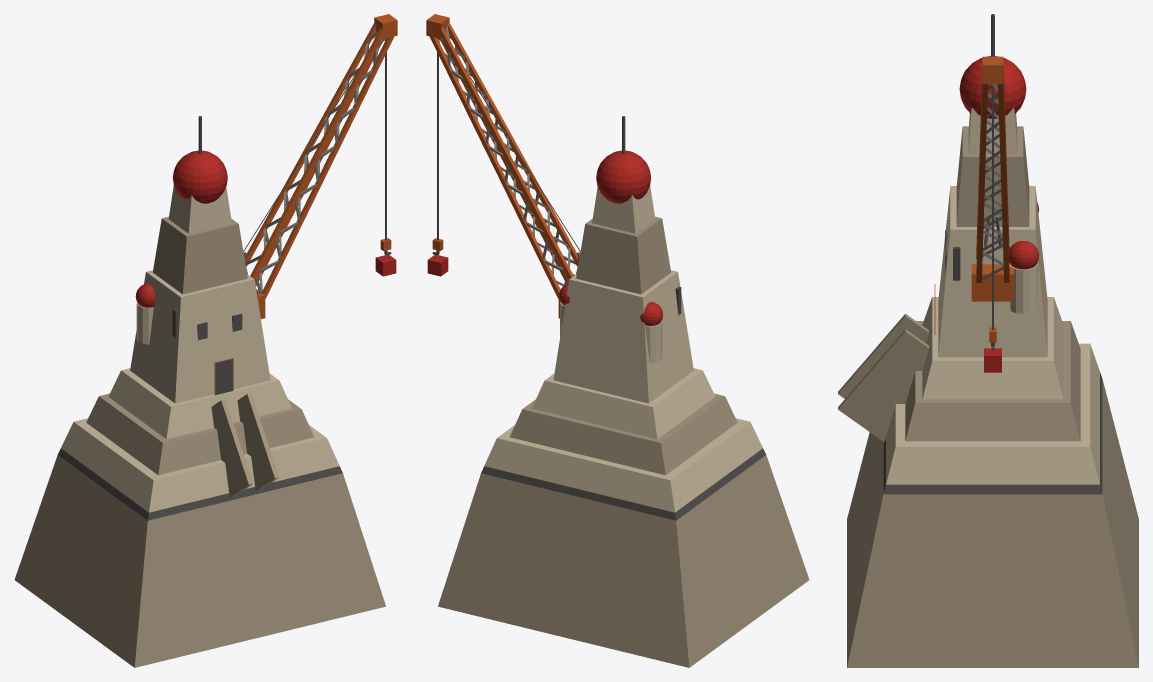
The model's file is crane_tower_script.glb.
3 renders of one model, left to right at view 1: azimuth 30°, elevation 25°; view 2: azimuth 150°, elevation 25°; view 3: azimuth 270°, elevation 25°, orthographic. The views are drawn at different scales.
Parts seen in each view (by area): view 1: Cube, Cube.007, Cube.002, Cube.003, Cube.004, Cube.014, Cube.001, Sphere, Cube.005, Cube.006, Cube.021, Cube.019 (+5 smaller); view 2: Cube, Cube.007, Cube.002, Cube.003, Cube.004, Cube.014, Cube.001, Sphere, Cube.022, Cube.020, Cube.015, Cube.021 (+2 smaller); view 3: Cube, Cube.002, Cube.007, Cube.003, Cube.004, Cube.006, Cube.014, Cube.001, Sphere, Cube.005, Cube.016, Cube.015 (+6 smaller).
Part boxes in pixels (x1=…): Cube: x1=14, y1=455, x2=385, y2=667; Cube.007: x1=130, y1=270, x2=270, y2=403; Cube.002: x1=61, y1=418, x2=339, y2=512; Cube.003: x1=86, y1=393, x2=313, y2=475; Cube.004: x1=108, y1=368, x2=291, y2=439; Cube.014: x1=153, y1=216, x2=247, y2=294; Cube.001: x1=57, y1=448, x2=342, y2=520; Sphere: x1=173, y1=150, x2=227, y2=203; Cube.005: x1=211, y1=399, x2=252, y2=497; Cube.006: x1=237, y1=393, x2=279, y2=491; Cube.021: x1=250, y1=27, x2=386, y2=279; Cube.019: x1=262, y1=31, x2=396, y2=298; Cube: x1=438, y1=455, x2=809, y2=667; Cube.007: x1=553, y1=270, x2=693, y2=403; Cube.002: x1=484, y1=418, x2=762, y2=512; Cube.003: x1=510, y1=393, x2=737, y2=475; Cube.004: x1=532, y1=368, x2=715, y2=439; Cube.014: x1=576, y1=216, x2=670, y2=294; Cube.001: x1=481, y1=448, x2=766, y2=520; Sphere: x1=596, y1=150, x2=650, y2=203; Cube.022: x1=437, y1=27, x2=573, y2=279; Cube.020: x1=427, y1=31, x2=560, y2=298; Cube.015: x1=592, y1=185, x2=655, y2=233; Cube.021: x1=447, y1=23, x2=578, y2=267; Cube: x1=847, y1=379, x2=1138, y2=667; Cube.002: x1=886, y1=343, x2=1099, y2=484; Cube.007: x1=938, y1=186, x2=1047, y2=357; Cube.003: x1=905, y1=321, x2=1080, y2=441; Cube.004: x1=922, y1=297, x2=1063, y2=399; Cube.006: x1=838, y1=329, x2=928, y2=442; Cube.014: x1=956, y1=126, x2=1029, y2=226; Cube.001: x1=883, y1=372, x2=1102, y2=494; Sphere: x1=959, y1=56, x2=1026, y2=118; Cube.005: x1=838, y1=313, x2=928, y2=398; Cube.016: x1=971, y1=264, x2=1014, y2=301; Cube.015: x1=968, y1=108, x2=1017, y2=154.
Bounding box in the file's own units: 73.5 × 117 × 49.48.
